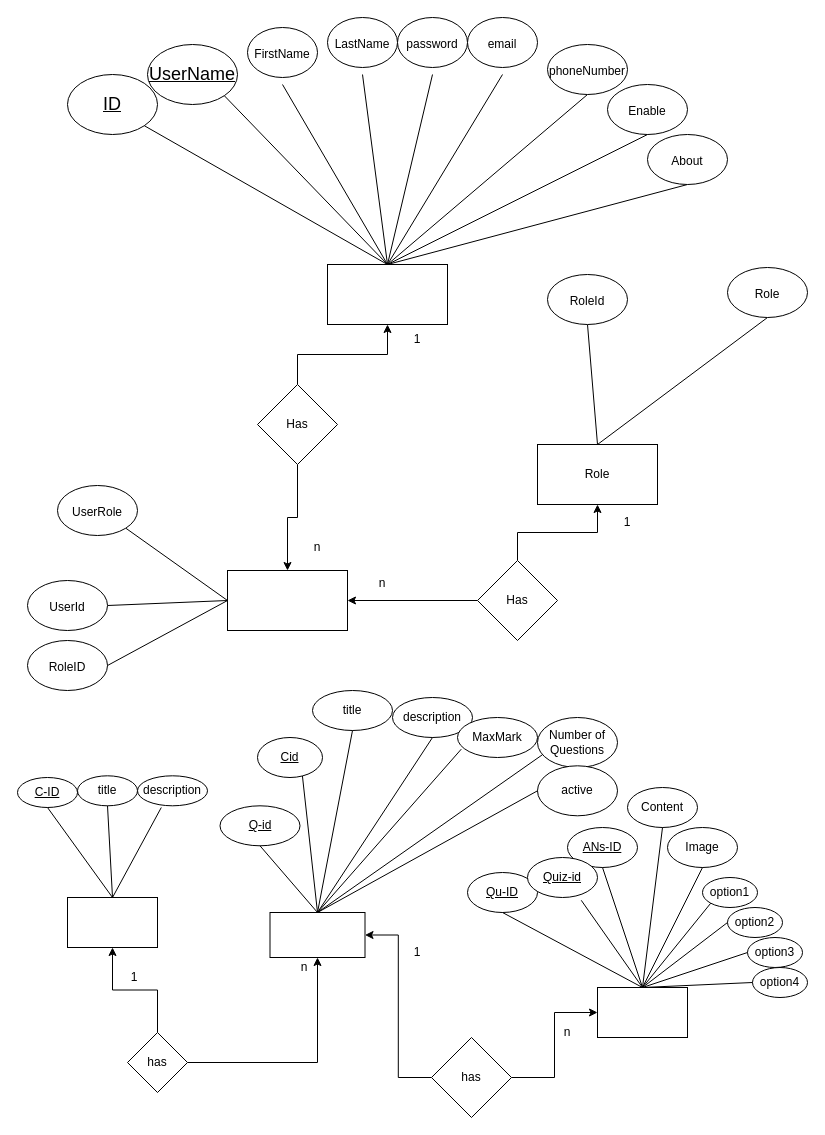
Image size: 825x1135. Some labels were removed from this diagram. The centre of each missing label's shape, as x and y in pixels:
Cateory: (112,922)
Question: (642,1012)
Quiz: (317,935)
User: (387,294)
User_Role: (287,600)
